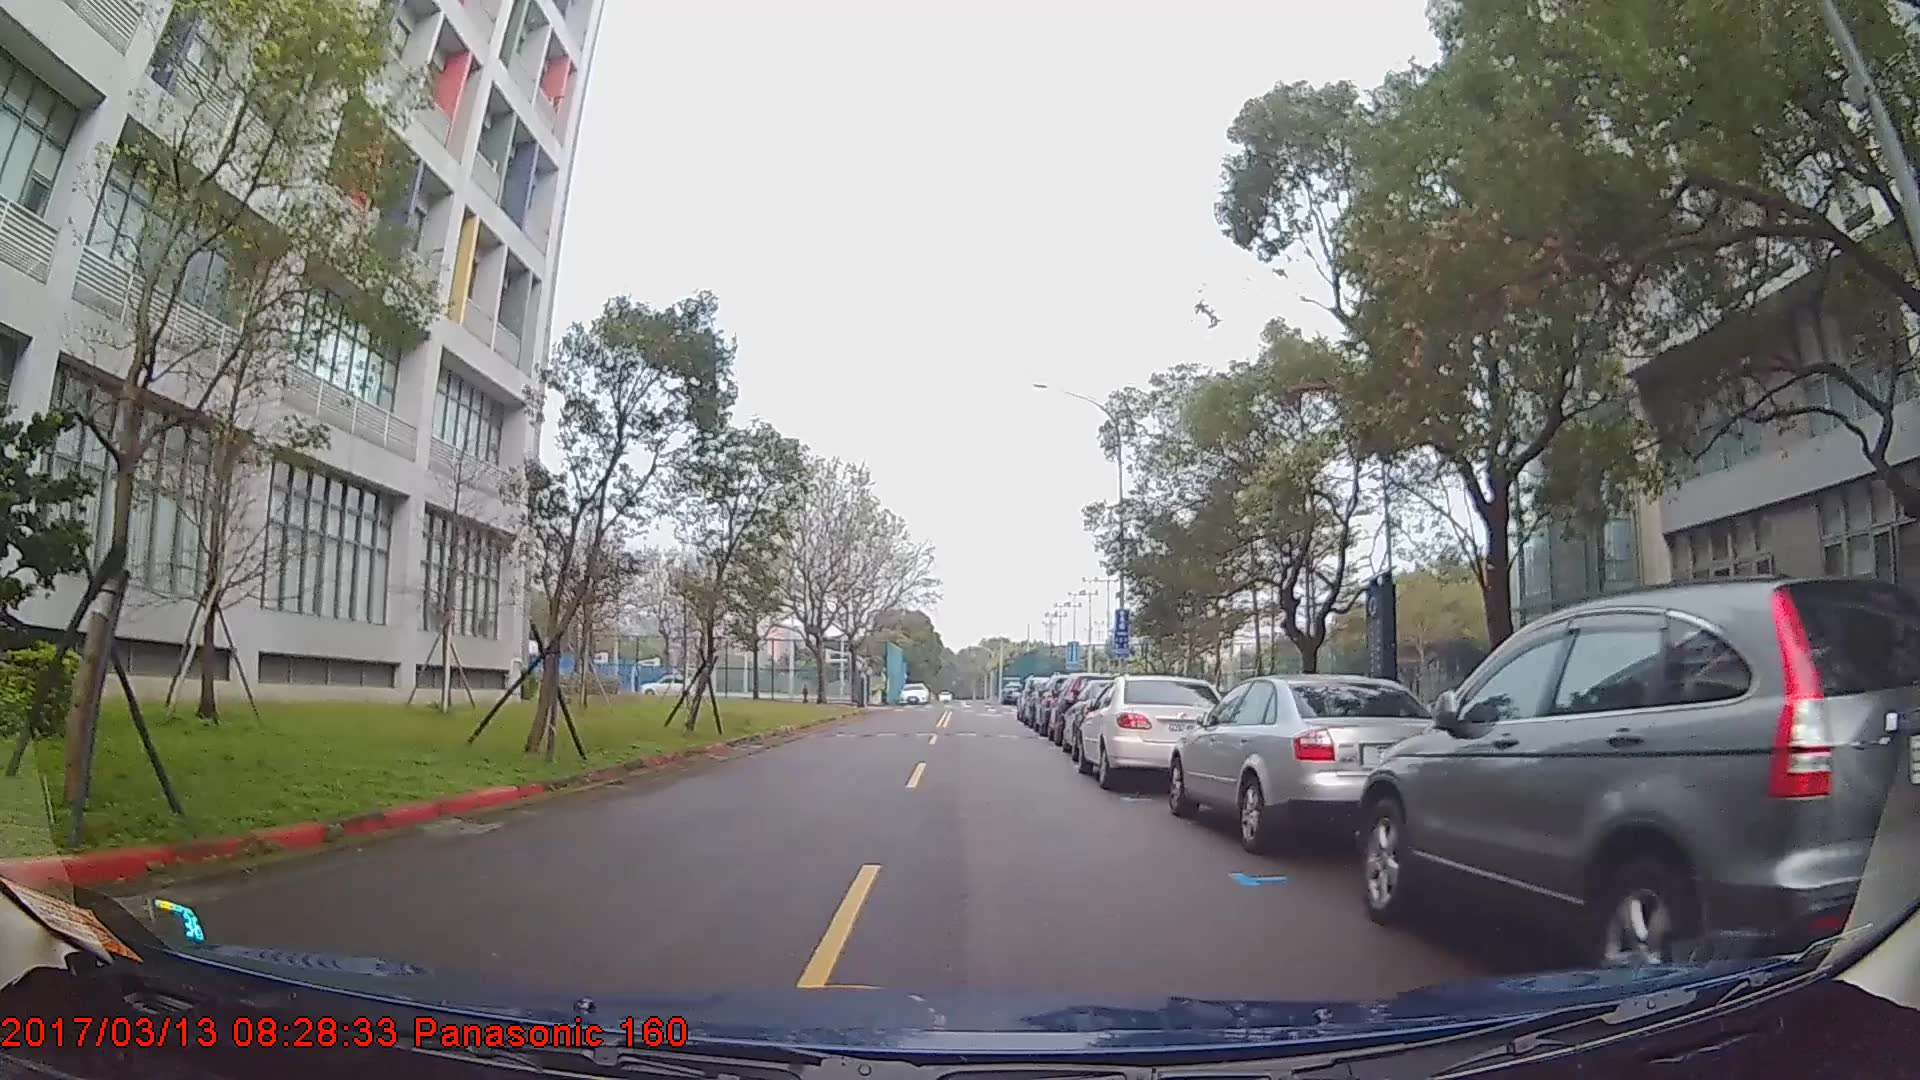vehicle: (1361, 572, 1920, 1002), (1166, 675, 1458, 858), (1073, 674, 1236, 790), (640, 673, 698, 699), (895, 684, 928, 705)
